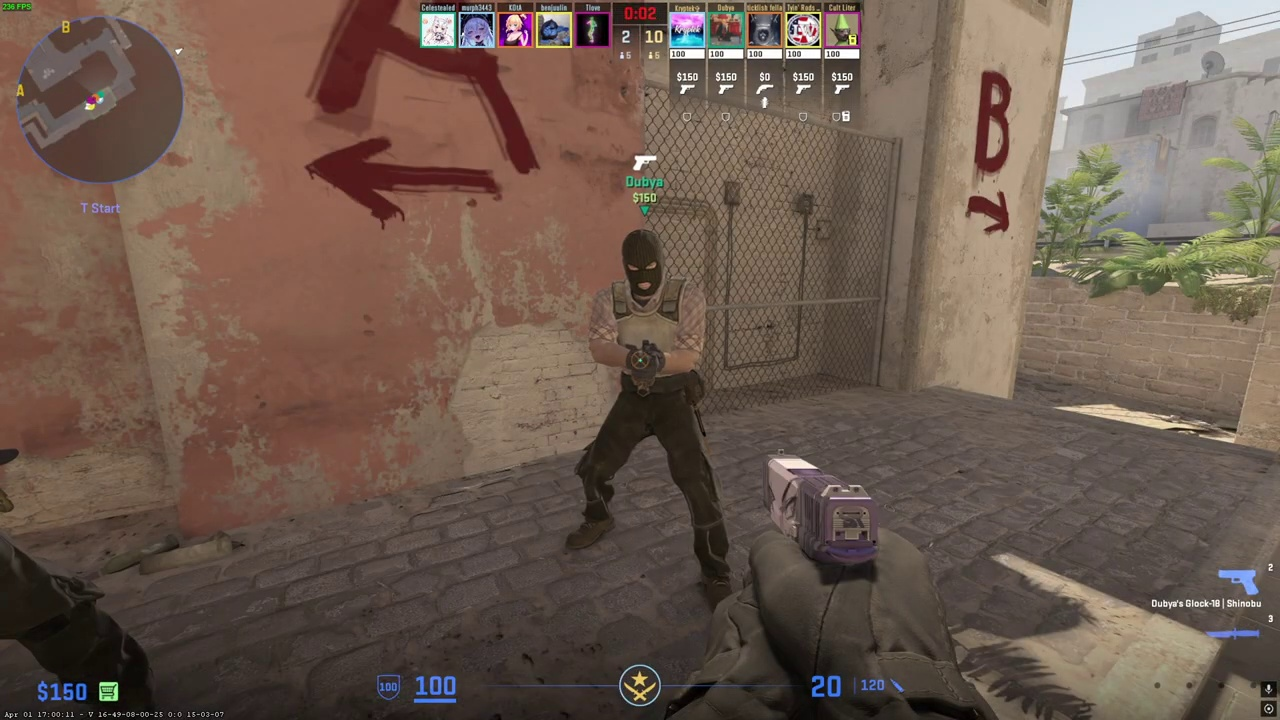Terrorist: (569, 229, 730, 599)
